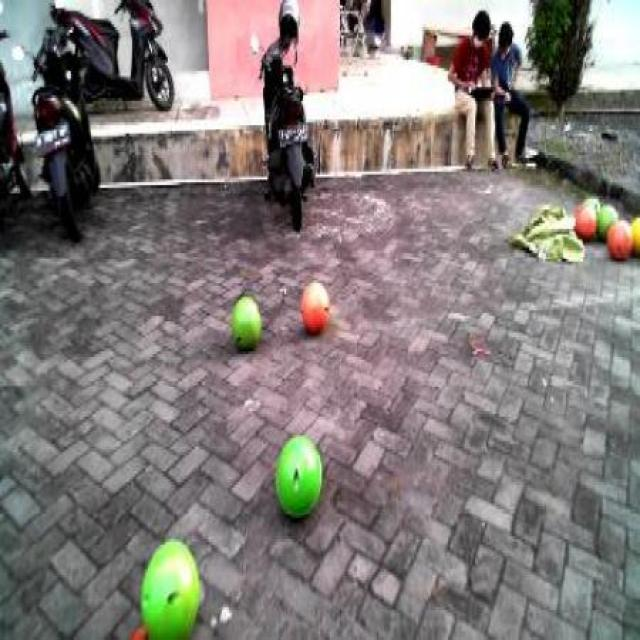buoy: (136, 528, 202, 635), (270, 426, 327, 530), (294, 270, 334, 344), (228, 287, 264, 358), (604, 210, 636, 266), (571, 193, 598, 245)
